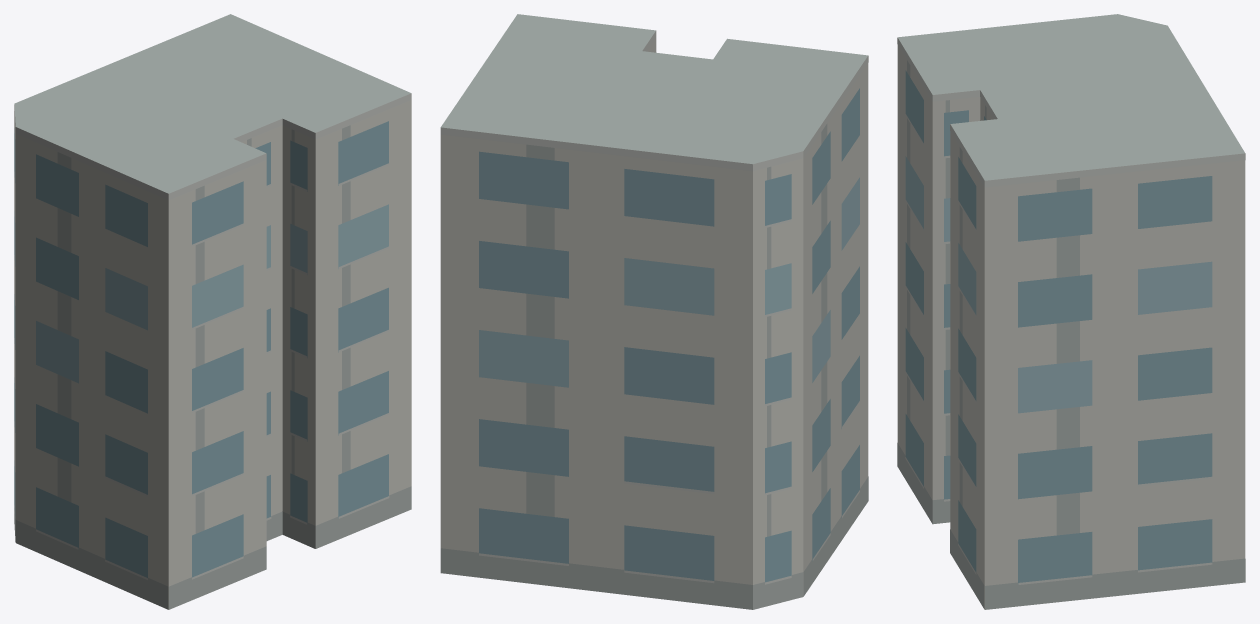
Rendered from survey-upis-32724633.glb.
3 views of the same model, side by side, from view 1: azimuth 30°, elevation 25°; view 2: azimuth 150°, elevation 25°; view 3: azimuth 270°, elevation 25° (orthographic). The views are drawn at different scales.
Visible parts, largest first — view 1: survey-upis-32724633.tmp; view 2: survey-upis-32724633.tmp; view 3: survey-upis-32724633.tmp.
Boxes of the visible parts, x1,y1,x2,y2 form: survey-upis-32724633.tmp: (14, 14, 411, 609); survey-upis-32724633.tmp: (440, 14, 868, 609); survey-upis-32724633.tmp: (897, 14, 1245, 609).
Size of the model in its own units: 12.76 by 15.3 by 11.25.
